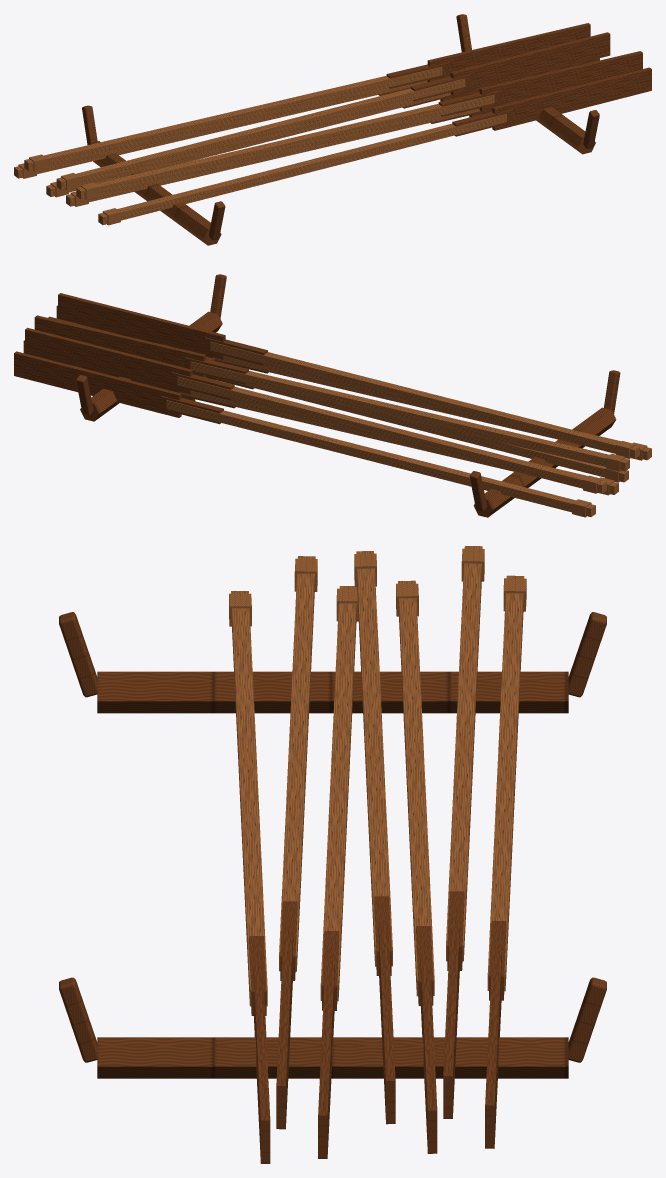
The model's file is viking-age-longhouse-and-longship-oar-stack-3ed2d32e__30190.glb.
The picture shows the model from 3 angles, top to bottom: view 1: azimuth 30°, elevation 25°; view 2: azimuth 150°, elevation 25°; view 3: azimuth 270°, elevation 25°; orthographic projection. The views are drawn at different scales.
Visible parts, largest first — view 1: oar-stack; view 2: oar-stack; view 3: oar-stack.
Part boxes in pixels (bbox=[...]): oar-stack: bbox=[14, 14, 651, 245]; oar-stack: bbox=[14, 274, 651, 517]; oar-stack: bbox=[59, 546, 606, 1163].
Bounding box in the file's own units: 4.43 × 0.3493 × 1.84.
2 materials, 2 textured.
